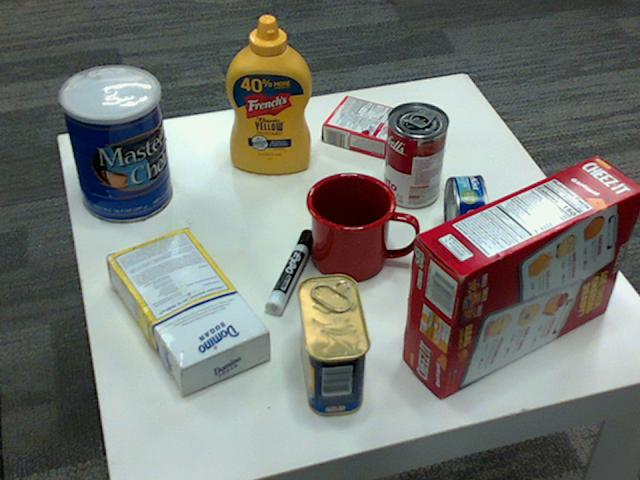cracker_box: (401, 154, 639, 396)
gelatin_box: (323, 95, 409, 156)
large_marker: (263, 231, 315, 319)
master_chef_can: (57, 65, 170, 223)
mug: (305, 170, 415, 279)
mustard_bottle: (225, 15, 311, 173)
potted_meat_can: (297, 275, 371, 415)
sugar_box: (104, 225, 267, 390)
tomato_soup_can: (382, 103, 447, 209)
tuna_fish_can: (442, 174, 487, 254)
